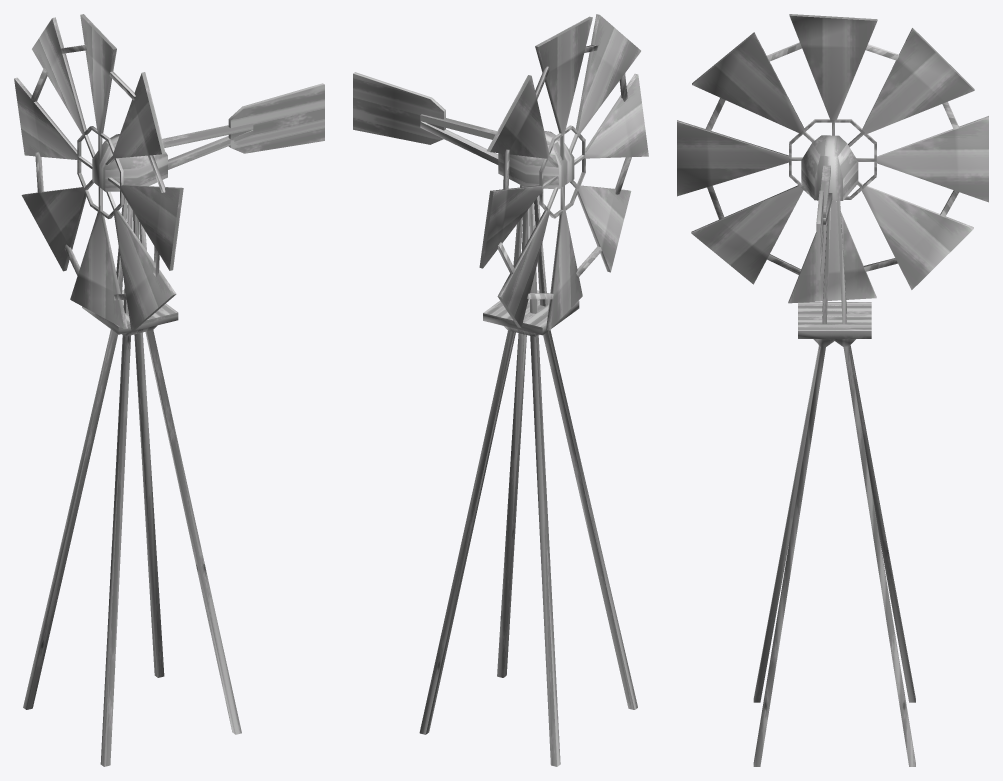
Rendered from WindMillModel (1).fbx.
3 renders of one model, left to right at view 1: azimuth 30°, elevation 25°; view 2: azimuth 150°, elevation 25°; view 3: azimuth 270°, elevation 25°, orthographic.
Parts seen in each view (by area): view 1: WindMillBlade, Windmill, WindMillTop; view 2: WindMillBlade, Windmill, WindMillTop; view 3: WindMillBlade, Windmill, WindMillTop.
Part boxes in pixels (<box>): WindMillBlade: <box>14,14,183,330</box>; Windmill: <box>23,196,241,766</box>; WindMillTop: <box>92,83,324,191</box>; WindMillBlade: <box>479,14,648,330</box>; Windmill: <box>419,185,637,766</box>; WindMillTop: <box>353,72,574,189</box>; WindMillBlade: <box>677,14,988,303</box>; Windmill: <box>753,201,915,766</box>; WindMillTop: <box>801,135,858,280</box>.
Bounding box in the file's own units: 1.6 × 4.24 × 1.71.
